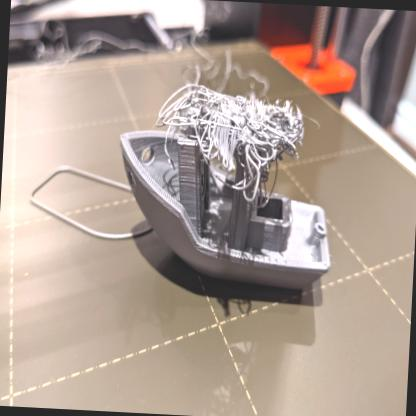fail: (159, 91, 316, 188)
